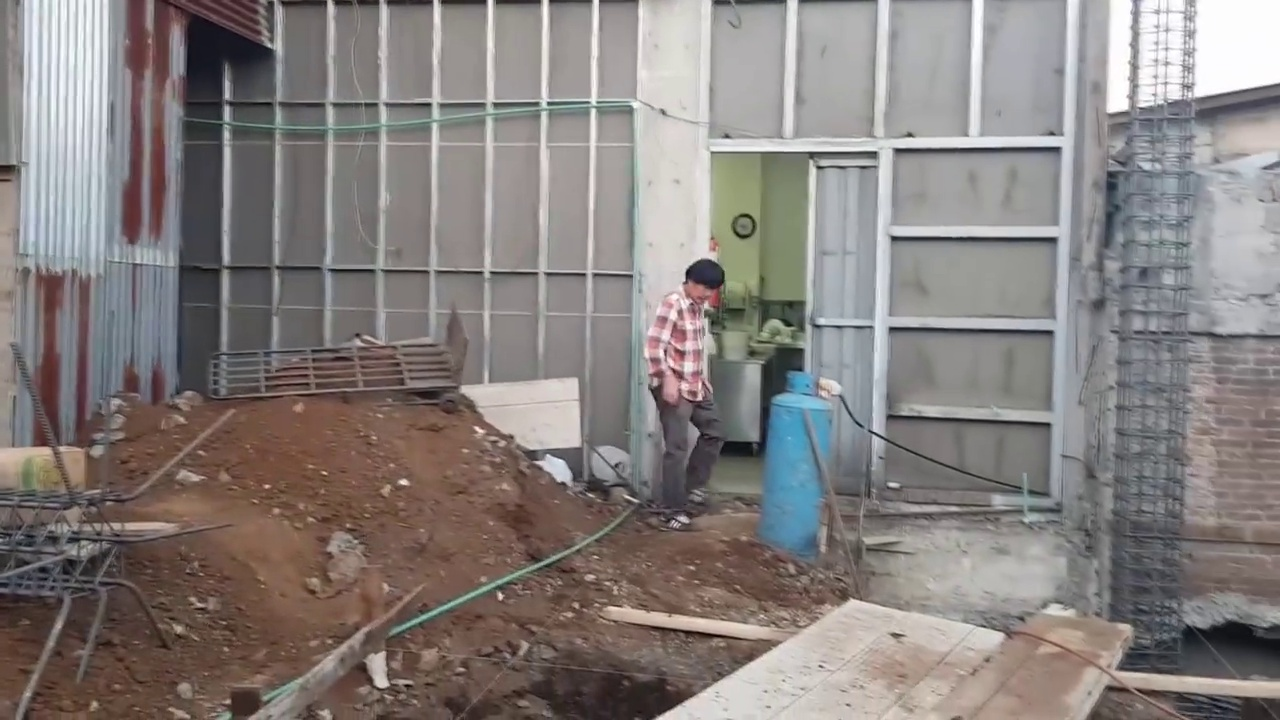helmet-off: (683, 260, 724, 311)
person: (643, 258, 728, 531)
